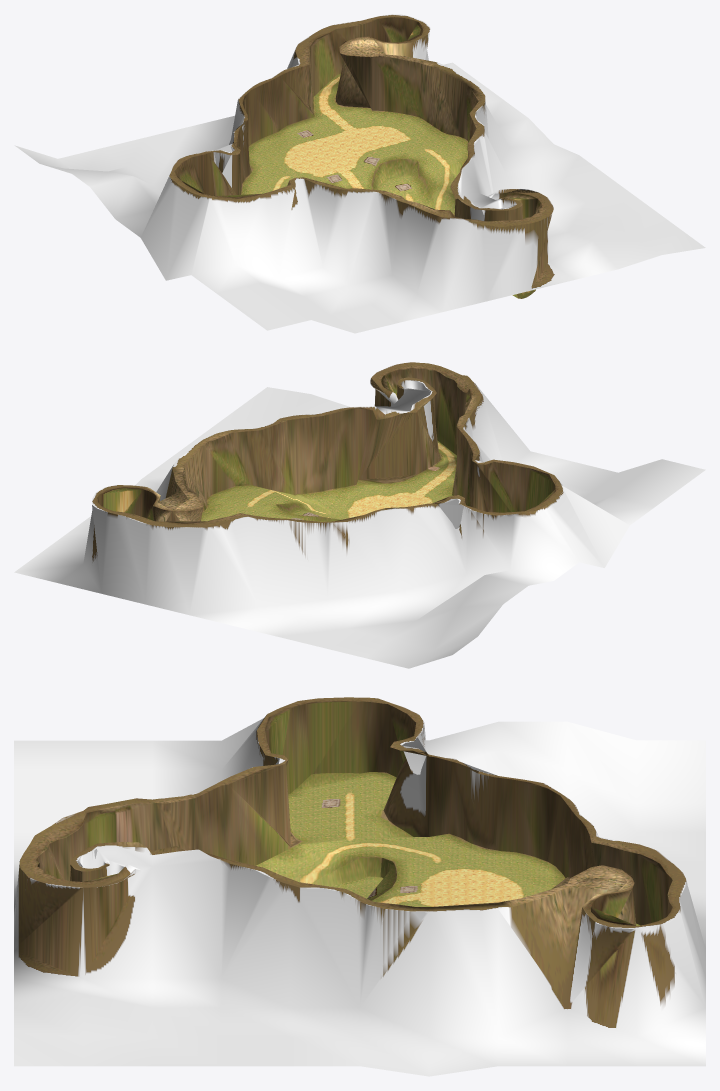
Rendered from dixing.fbx.
3 views of the same model, one above another, from view 1: azimuth 30°, elevation 25°; view 2: azimuth 150°, elevation 25°; view 3: azimuth 270°, elevation 25° (orthographic). The views are drawn at different scales.
Visible parts, largest first — view 1: pPlane2; view 2: pPlane2; view 3: pPlane2.
Boxes of the visible parts, bbox=[...] form: pPlane2: bbox=[14, 14, 705, 333]; pPlane2: bbox=[14, 362, 705, 668]; pPlane2: bbox=[14, 697, 705, 1076].
Bounding box in the file's own units: 500 × 102 × 500.
